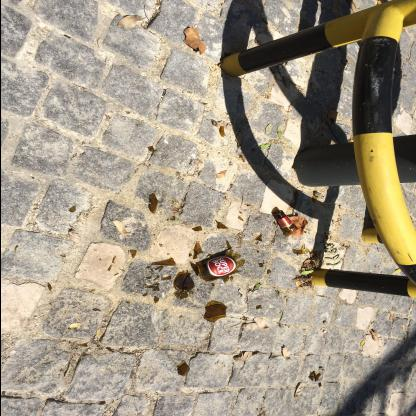cam: (194, 252, 244, 282), (272, 210, 300, 238), (172, 272, 194, 292), (203, 304, 227, 322)
